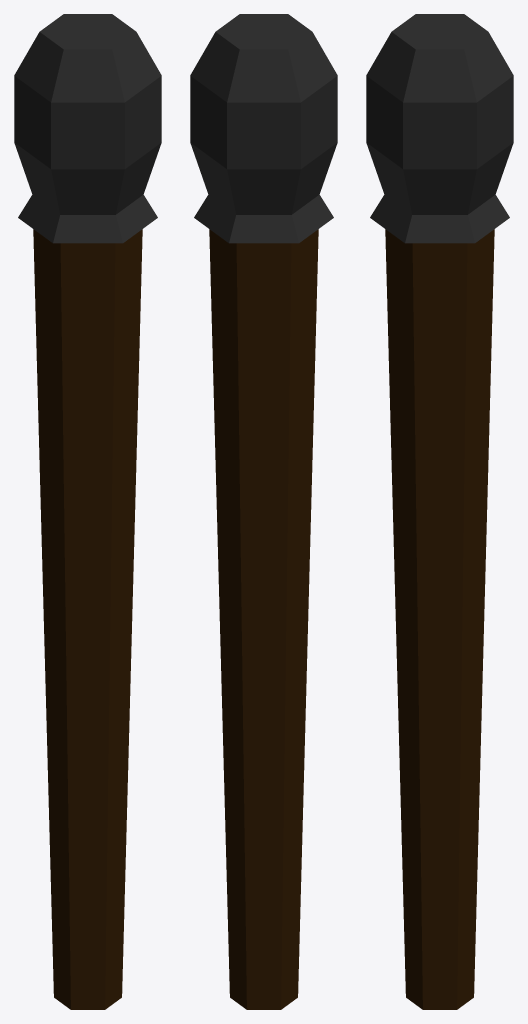
File: torch.glb
The picture shows the model from 3 angles, left to right: view 1: azimuth 30°, elevation 25°; view 2: azimuth 150°, elevation 25°; view 3: azimuth 270°, elevation 25°; orthographic projection.
Visible parts, largest first — view 1: wood-material, oily_rag-material; view 2: wood-material, oily_rag-material; view 3: wood-material, oily_rag-material.
Boxes of the visible parts, x1,y1,x2,y2 form: wood-material: (33, 229, 142, 1009); oily_rag-material: (14, 14, 161, 243); wood-material: (209, 229, 318, 1009); oily_rag-material: (190, 14, 337, 243); wood-material: (385, 229, 494, 1009); oily_rag-material: (366, 14, 513, 243).
Bounding box in the file's own units: 0.4094 × 3.41 × 0.4728.
